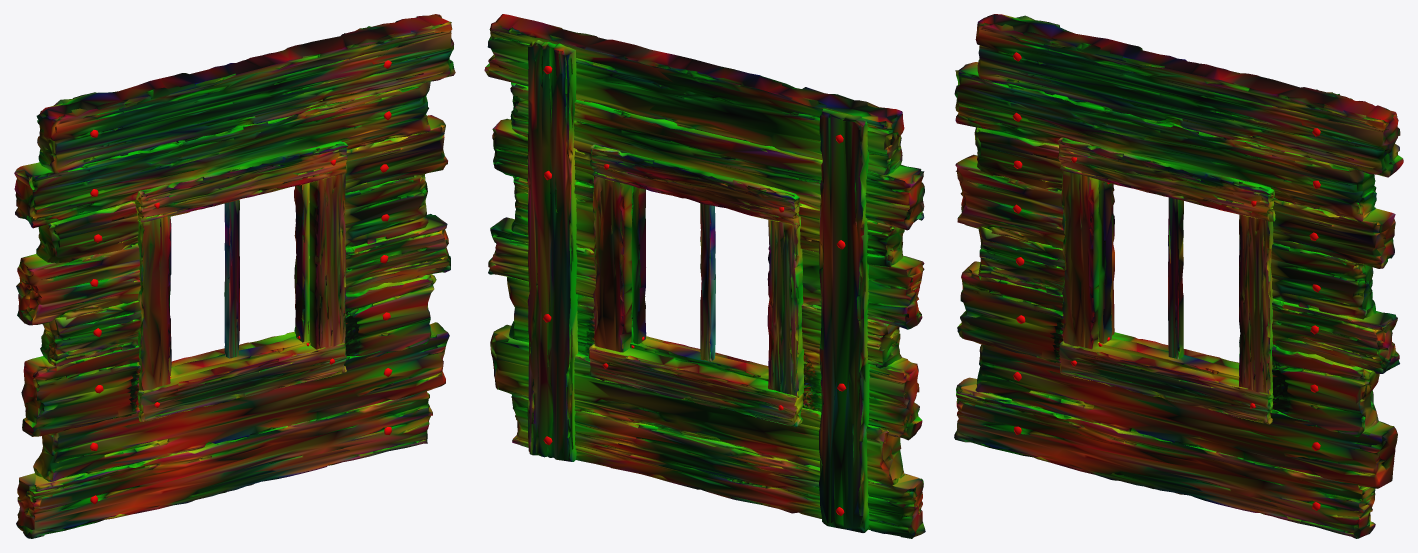
Rendered from SM_Wood_WallWindowLarge.fbx.
3 views of the same model, side by side, from view 1: azimuth 30°, elevation 25°; view 2: azimuth 150°, elevation 25°; view 3: azimuth 330°, elevation 25° (orthographic). The views are drawn at different scales.
Parts seen in each view (by area): view 1: SM_Wood_WallWindowLarge_LOD0; view 2: SM_Wood_WallWindowLarge_LOD0; view 3: SM_Wood_WallWindowLarge_LOD0.
Part boxes in pixels (box(x1,y1,x2,y2)): SM_Wood_WallWindowLarge_LOD0: box(14, 14, 455, 538); SM_Wood_WallWindowLarge_LOD0: box(484, 14, 925, 538); SM_Wood_WallWindowLarge_LOD0: box(954, 14, 1403, 538).
Bounding box in the file's own units: 328 × 37.64 × 306.
